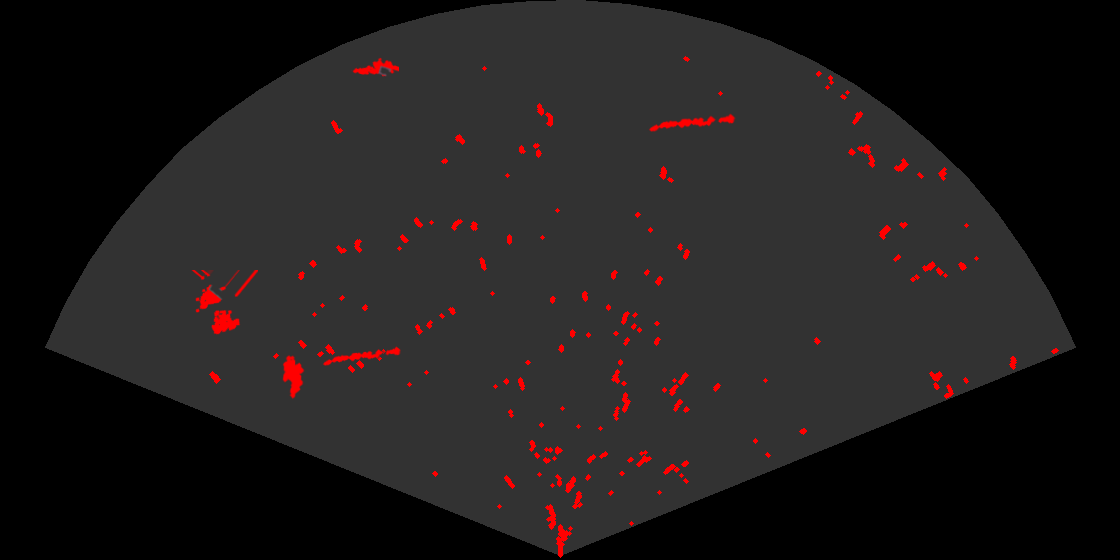AUV: (281, 353, 306, 401)
cage: (190, 270, 258, 336)
chain: (647, 112, 736, 133), (321, 345, 401, 367)
frogman: (351, 56, 399, 78)
